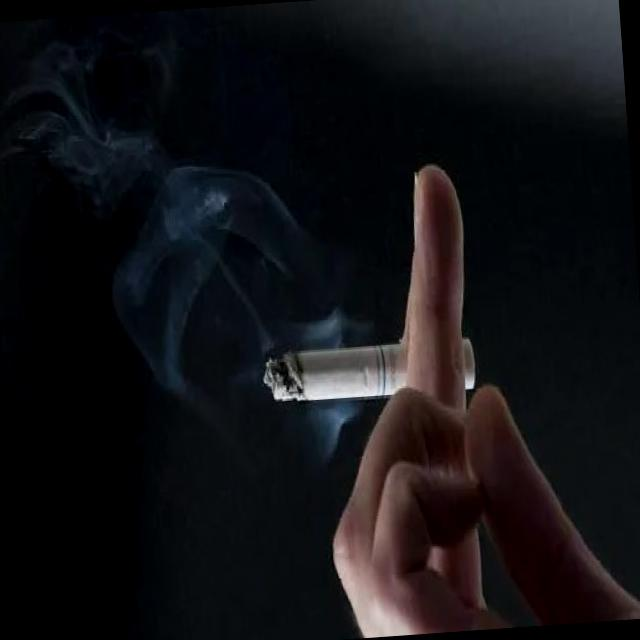cigarette: (254, 336, 481, 407)
